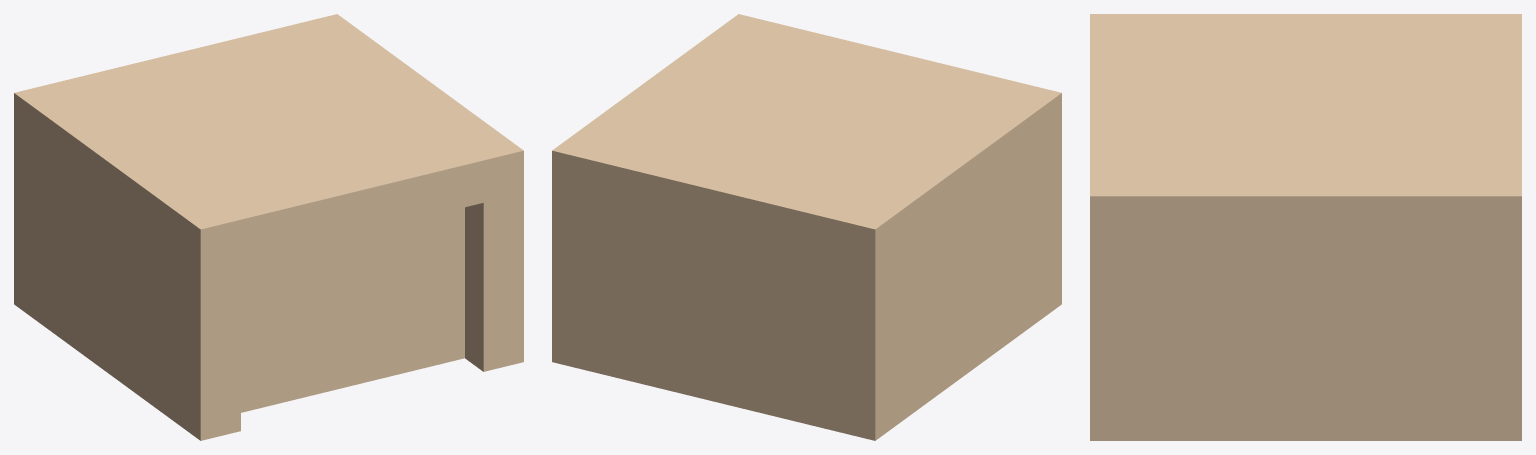
File: building-window-large.obj
The picture shows the model from 3 angles, left to right: view 1: azimuth 30°, elevation 25°; view 2: azimuth 150°, elevation 25°; view 3: azimuth 270°, elevation 25°; orthographic projection. The views are drawn at different scales.
Size of the model in its own units: 1 by 0.625 by 1.
